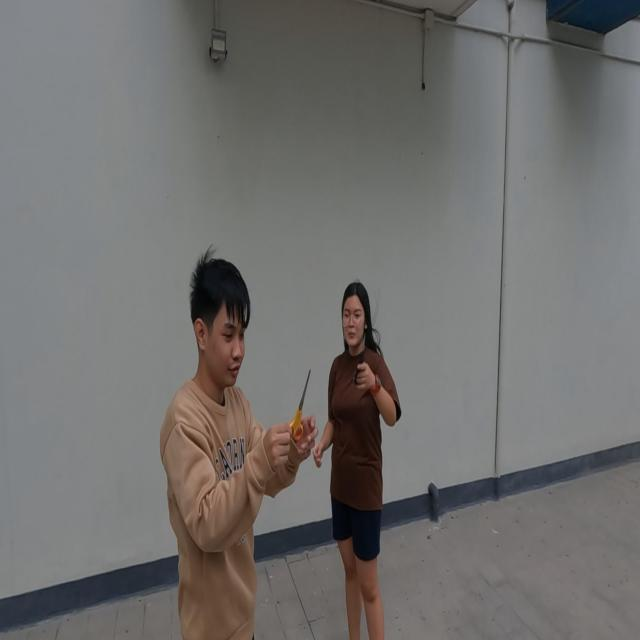scissor: (288, 368, 311, 441), (354, 332, 366, 385)
